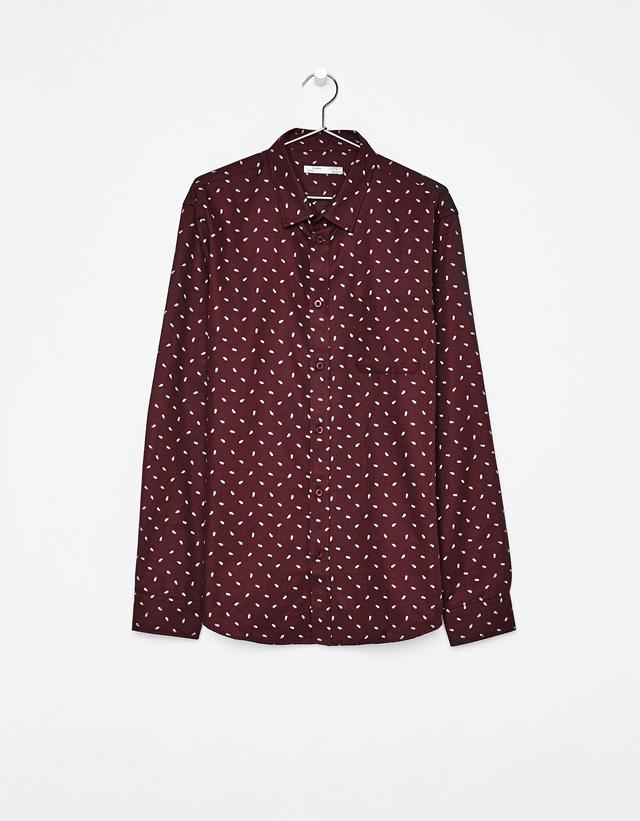teeshirt: (127, 131, 529, 666)
